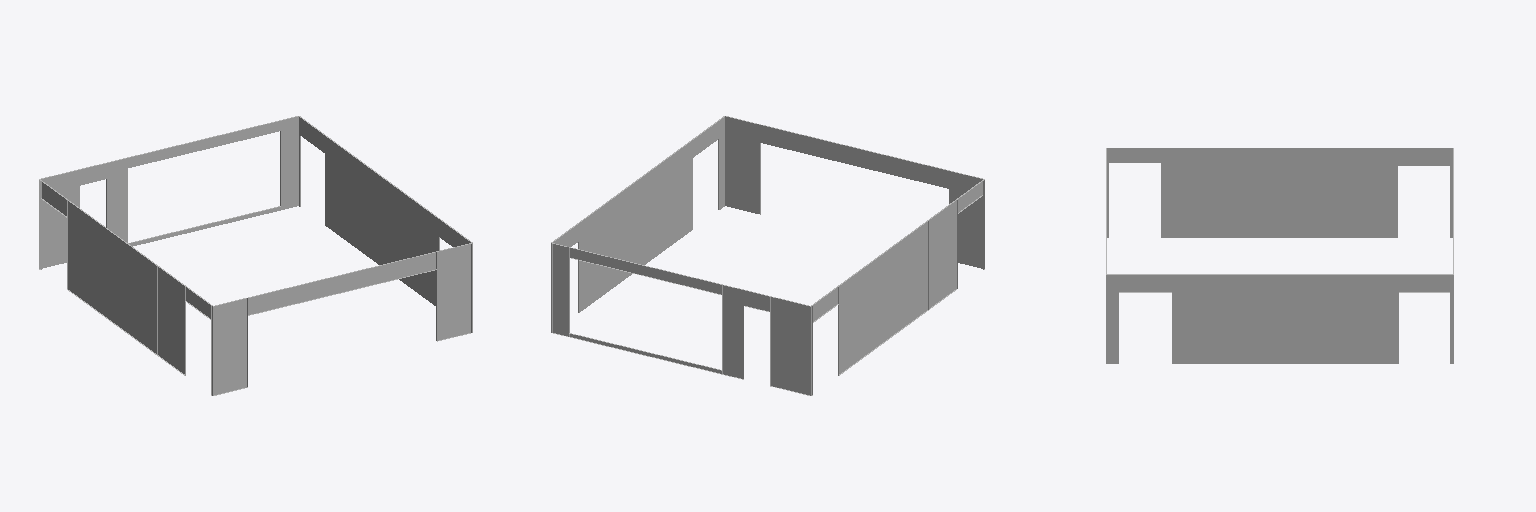
The model's file is housesp_004.obj.
3 views of the same model, side by side, from view 1: azimuth 30°, elevation 25°; view 2: azimuth 150°, elevation 25°; view 3: azimuth 270°, elevation 25° (orthographic).
Bounding box in the file's own units: 760 × 250 × 880.